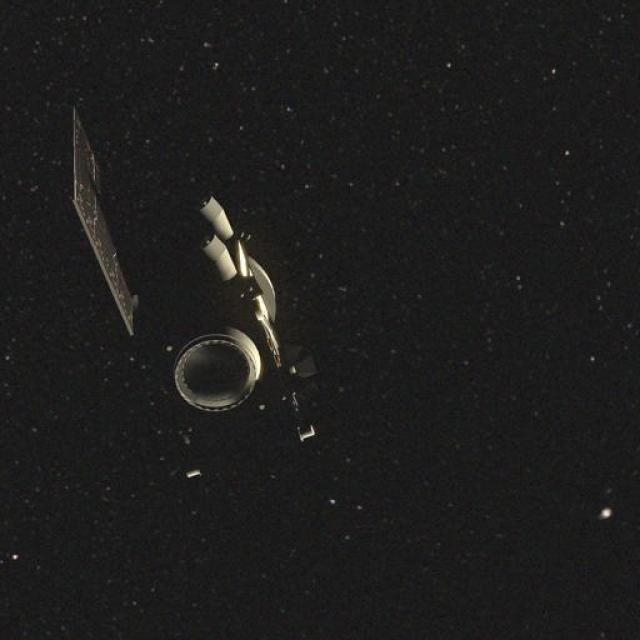proba_3_csc: (46, 117, 352, 483)
